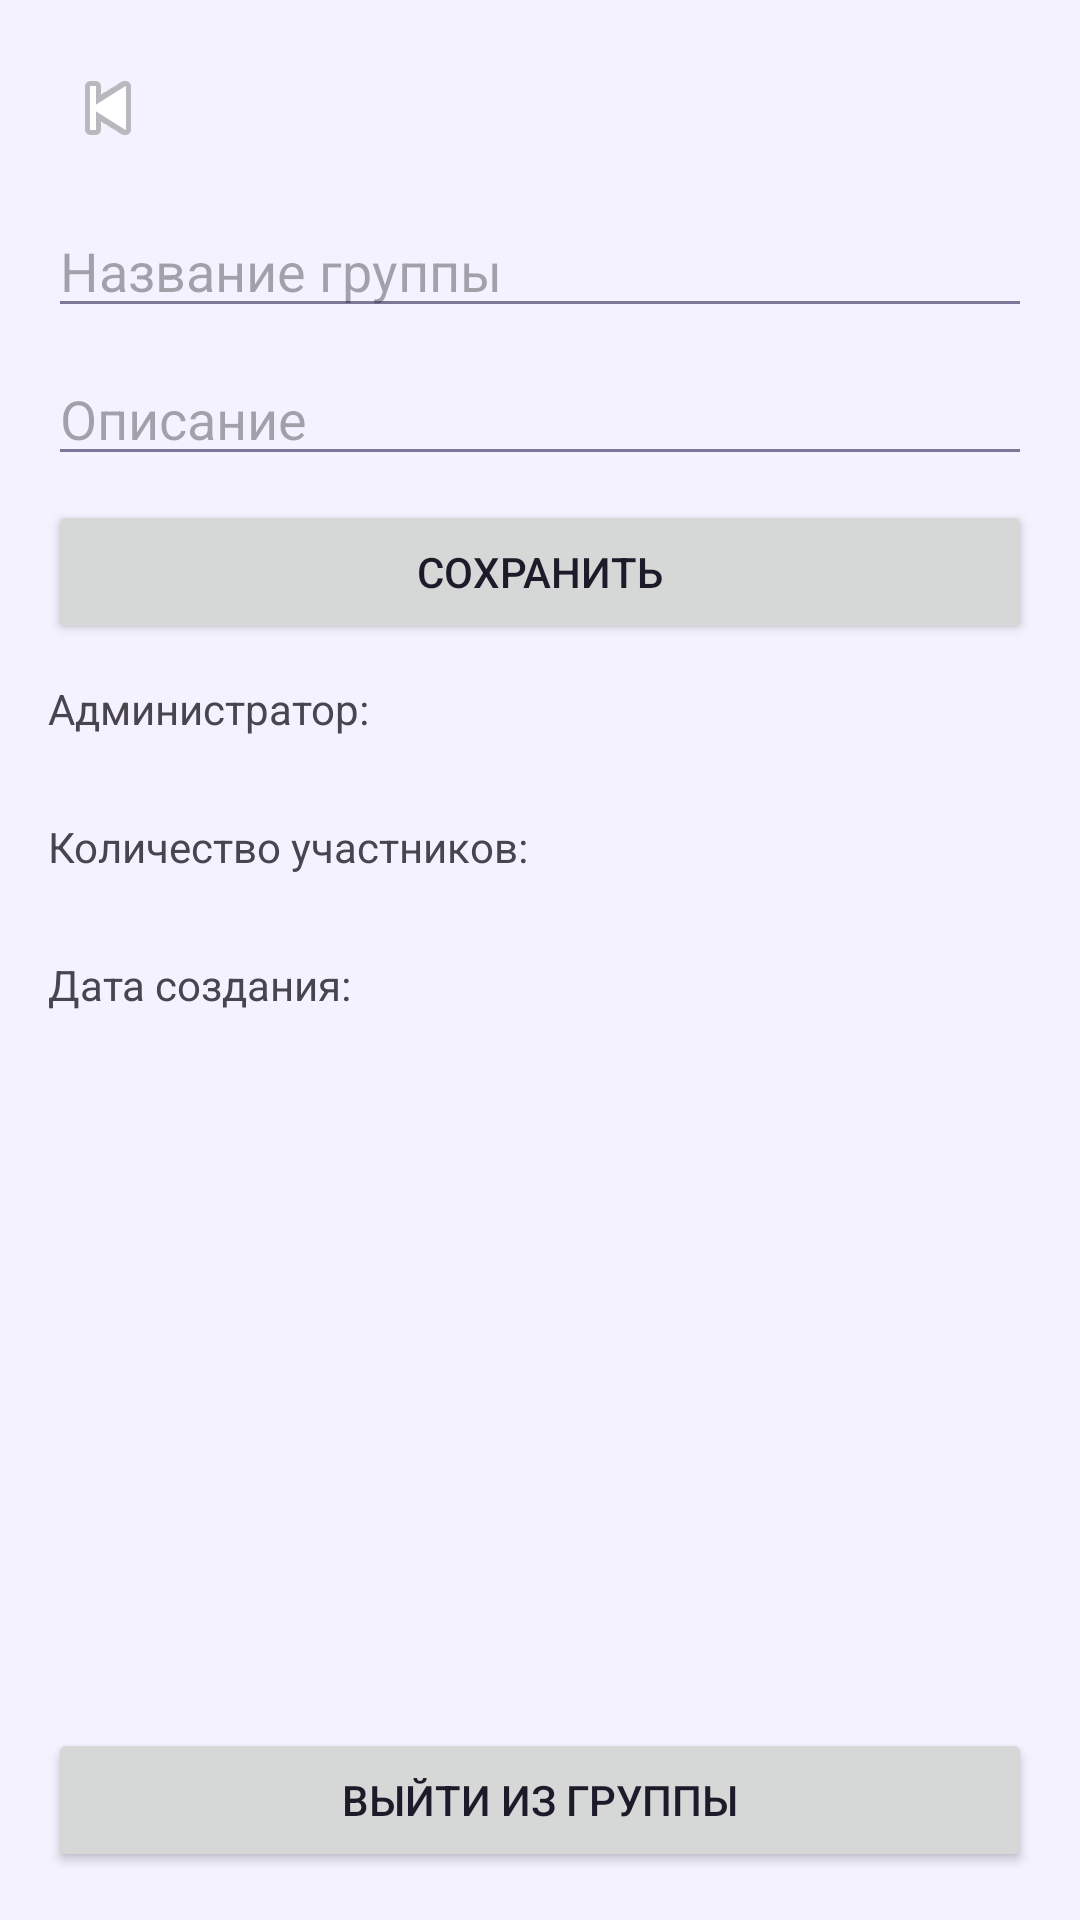

Where icons sit on this 1080px×1920px app screen, as (x1, y1, x2, y2):
Назад: (85, 81, 131, 135)
